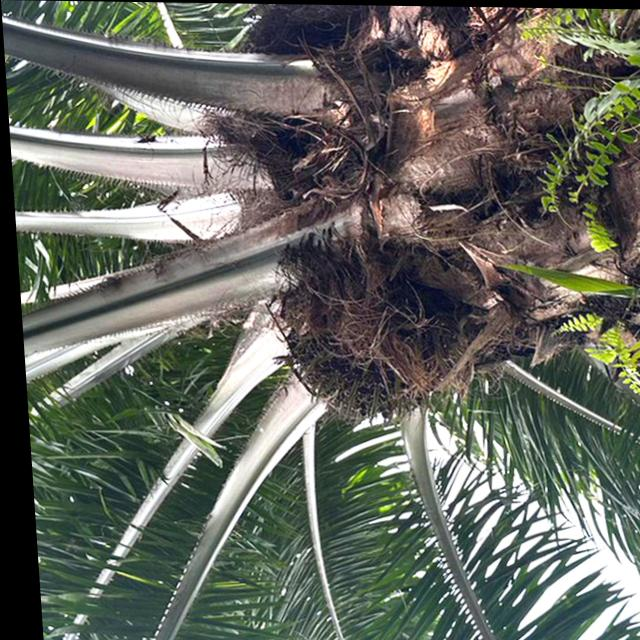unripe: (262, 202, 494, 421), (195, 2, 398, 184)
